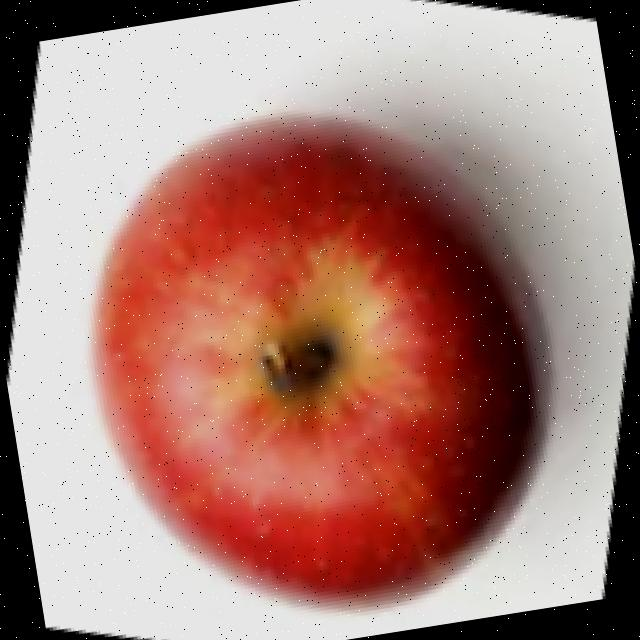Ripe: (41, 68, 584, 640)
